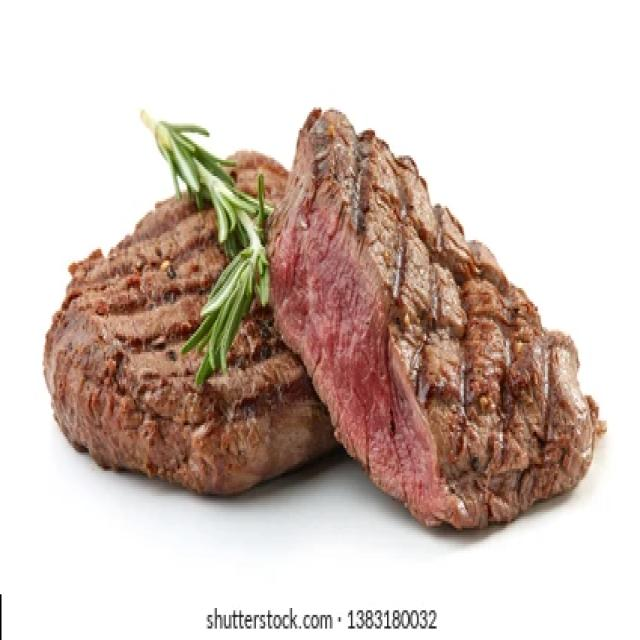Carne: (262, 103, 605, 530), (42, 139, 342, 496)
